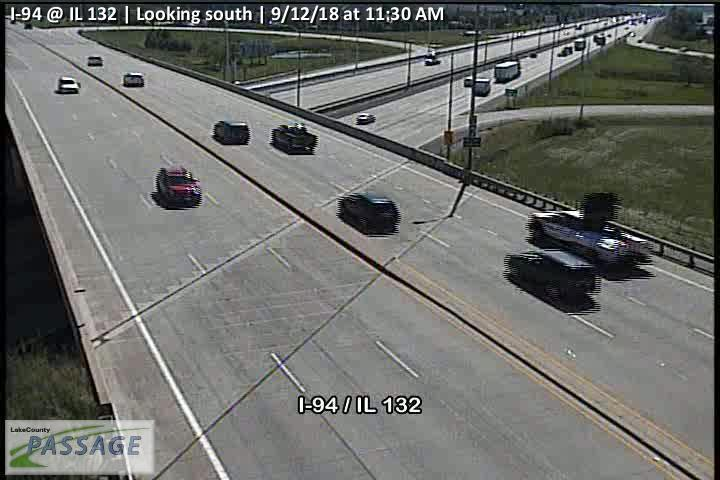Sedan: (506, 249, 596, 302), (339, 193, 398, 233), (155, 166, 202, 207), (272, 121, 317, 151), (213, 119, 250, 145), (56, 76, 80, 91), (122, 71, 144, 86), (87, 54, 104, 68)
Truck: (529, 207, 655, 267), (494, 58, 521, 81), (355, 111, 378, 124)
